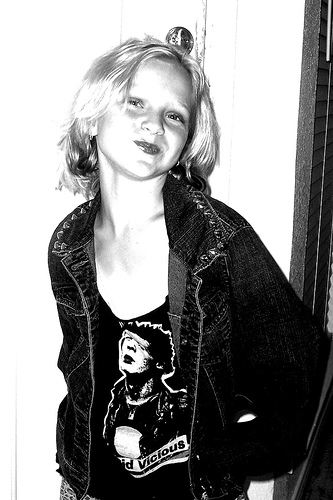without_mask: (77, 42, 209, 198)
